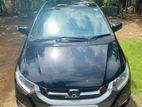car: (9, 0, 132, 107)
